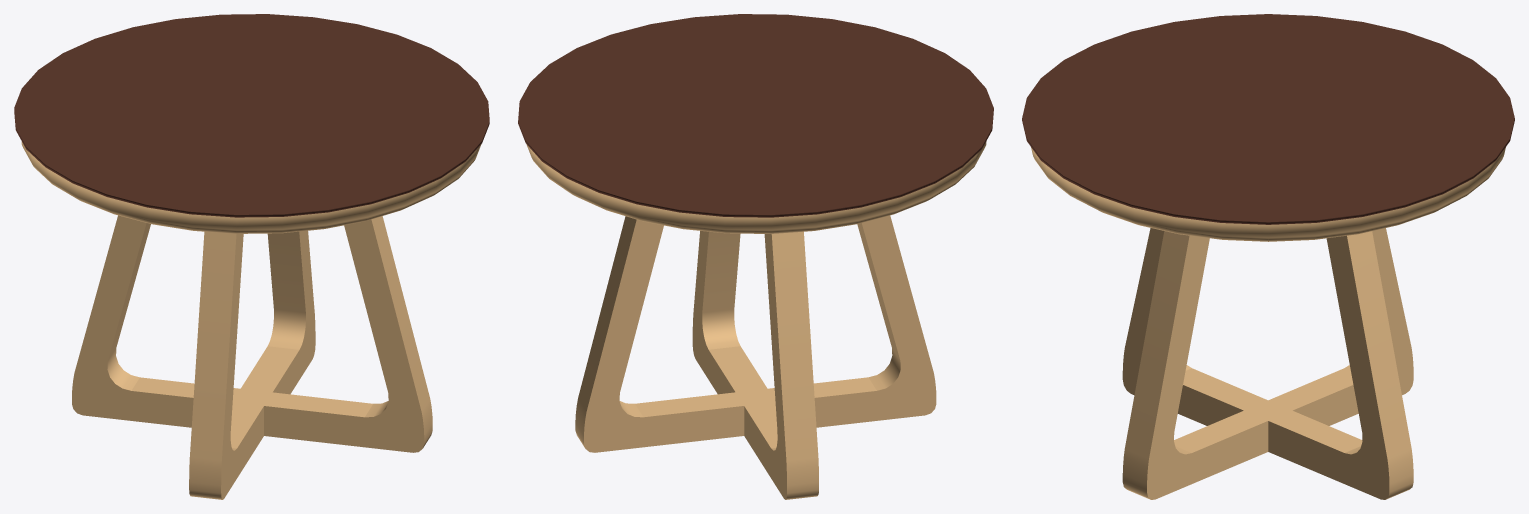
File: meja teras.fbx
The picture shows the model from 3 angles, left to right: view 1: azimuth 30°, elevation 25°; view 2: azimuth 150°, elevation 25°; view 3: azimuth 270°, elevation 25°; orthographic projection. The views are drawn at different scales.
Visible parts, largest first — view 1: Meja Teras; view 2: Meja Teras; view 3: Meja Teras.
Part boxes in pixels (bbox=[...]): Meja Teras: bbox=[14, 14, 489, 499]; Meja Teras: bbox=[518, 14, 993, 499]; Meja Teras: bbox=[1022, 14, 1514, 499].
Bounding box in the file's own units: 115 × 83.28 × 115.
